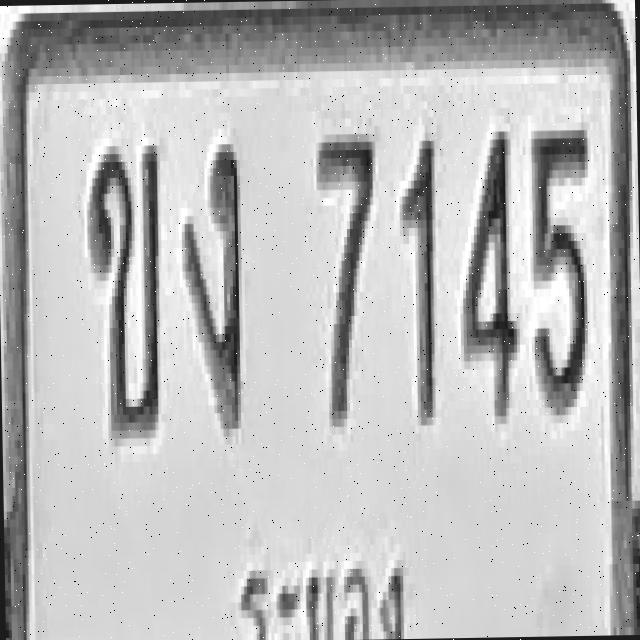1: (398, 132, 439, 426)
11KhorKhai: (87, 138, 163, 438)
16NgorNgu: (180, 136, 244, 429)
4: (458, 123, 516, 416)
5: (530, 122, 592, 415)
7: (316, 126, 378, 427)
Rayong: (231, 539, 413, 640)
